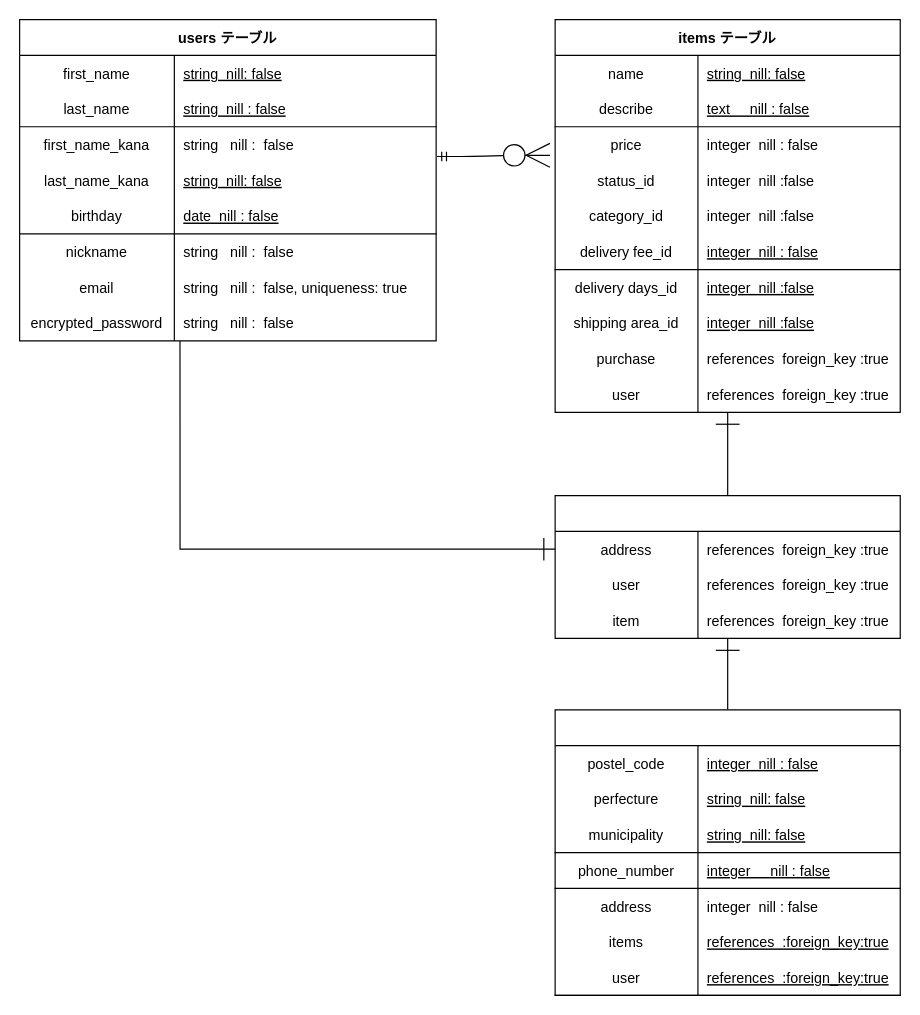
This 920x1015 diagram has some shape labels left out. Each missing label, with the box of its shape:
address 住所テーブル: (554, 709, 900, 995)
purchase テーブル: (554, 494, 900, 638)
